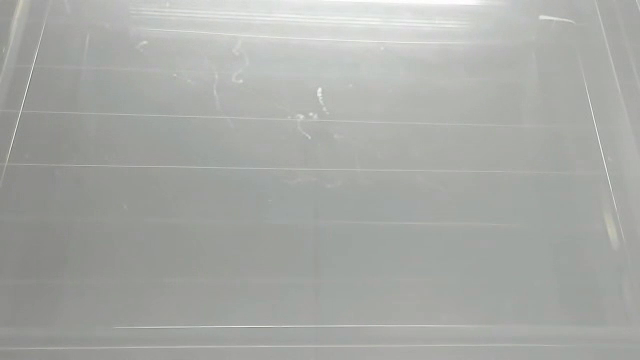alpha: (535, 10, 578, 30), (311, 83, 333, 117)
